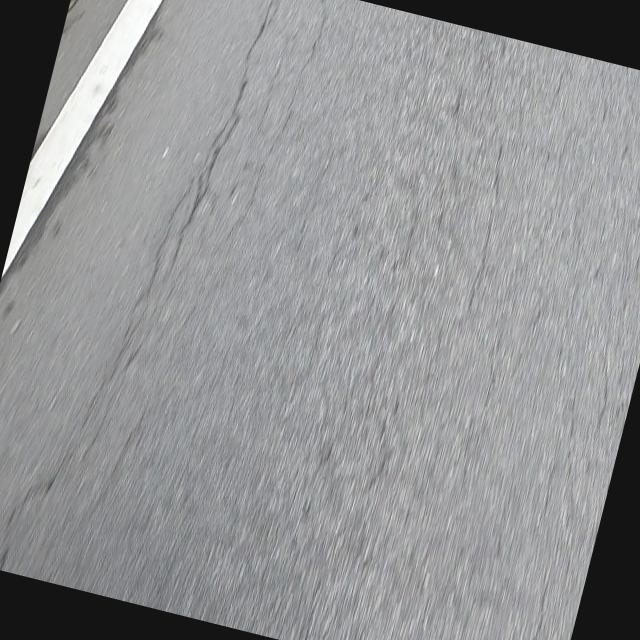Retak-Memanjang: (0, 179, 194, 568), (173, 0, 275, 262), (468, 142, 503, 314)
